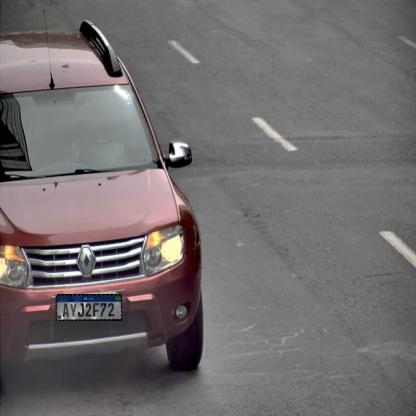PlacaM: (56, 294, 122, 321)
